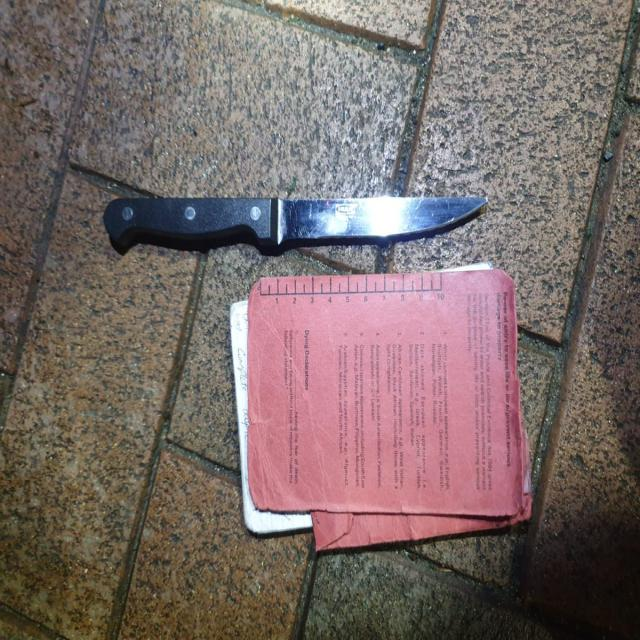Sharp-Object: (102, 194, 495, 255)
